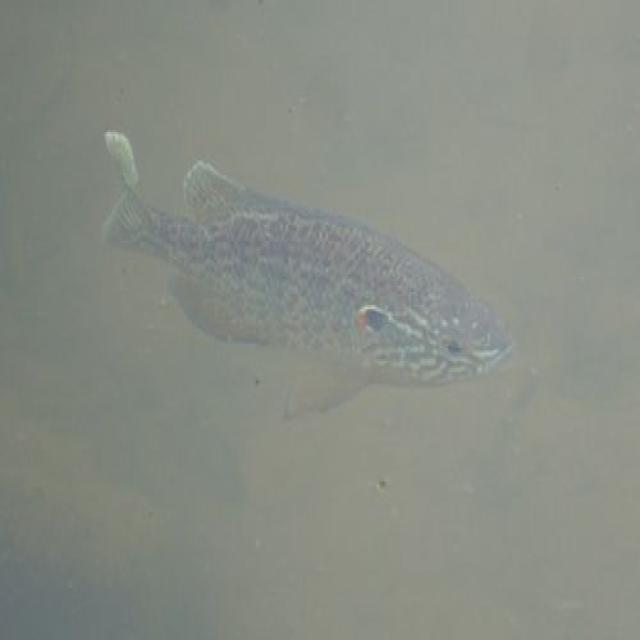Gunes Levregi: (94, 91, 520, 432)
